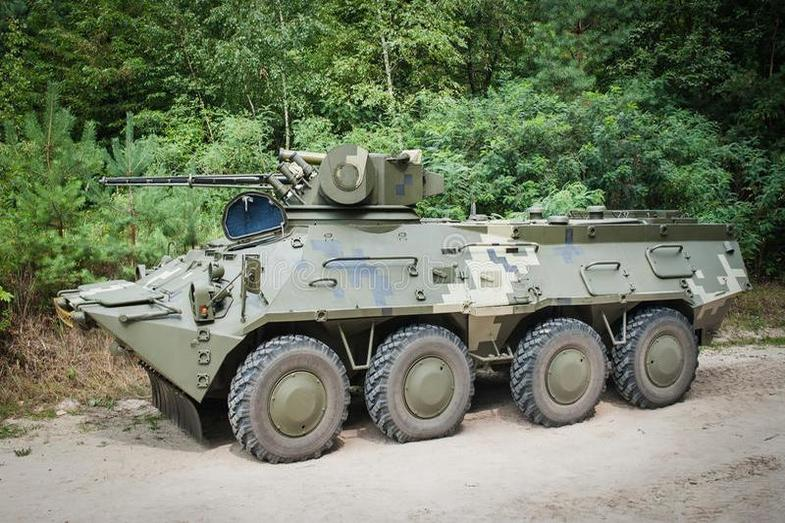btr: (64, 152, 747, 410)
